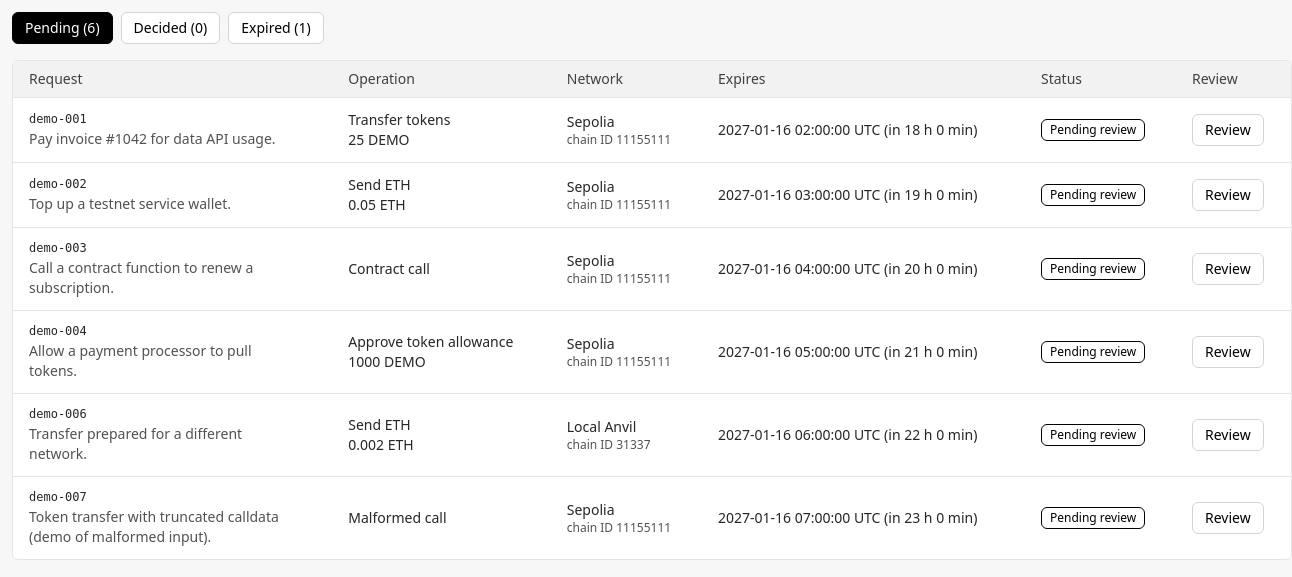
Test: ApprovalWorkspace queue › shows a per-filter empty message
The width and height of the screenshot is (1292, 577).
Click the button "Decided (0)": [170, 28] box [121,12,220,44]
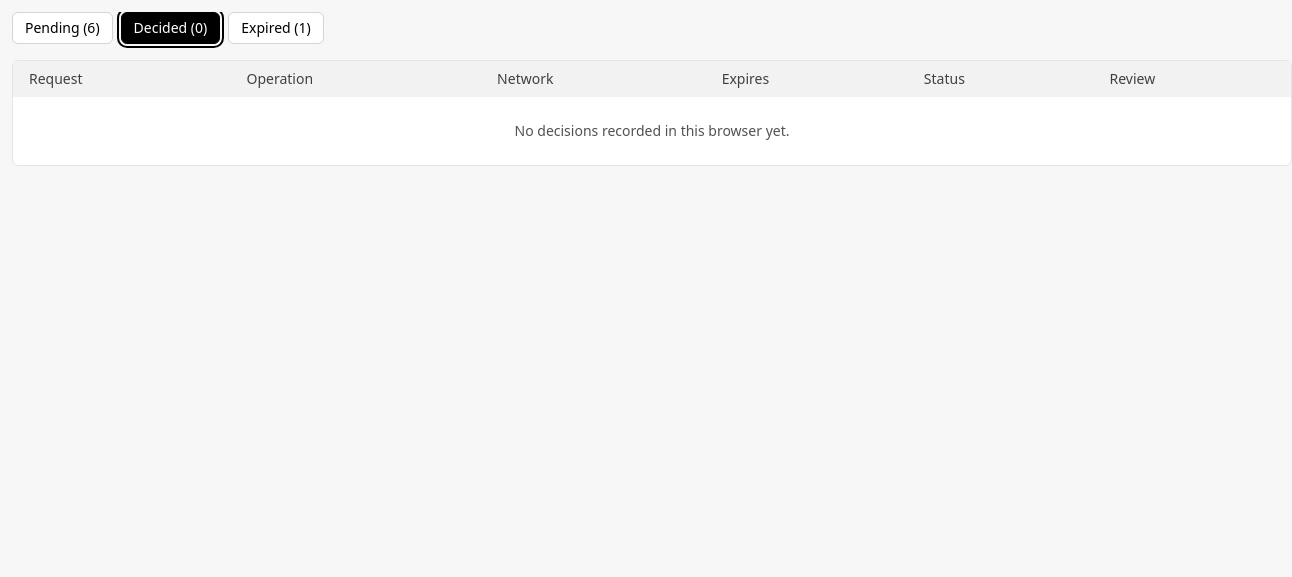
Check: the text "No decisions recorded in this browser yet." is shown, box [13,97,1291,165]
